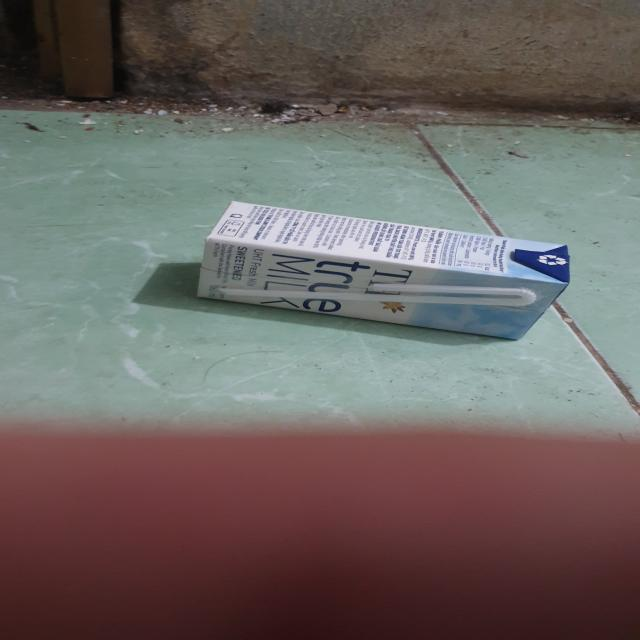TH: (188, 199, 583, 347)
